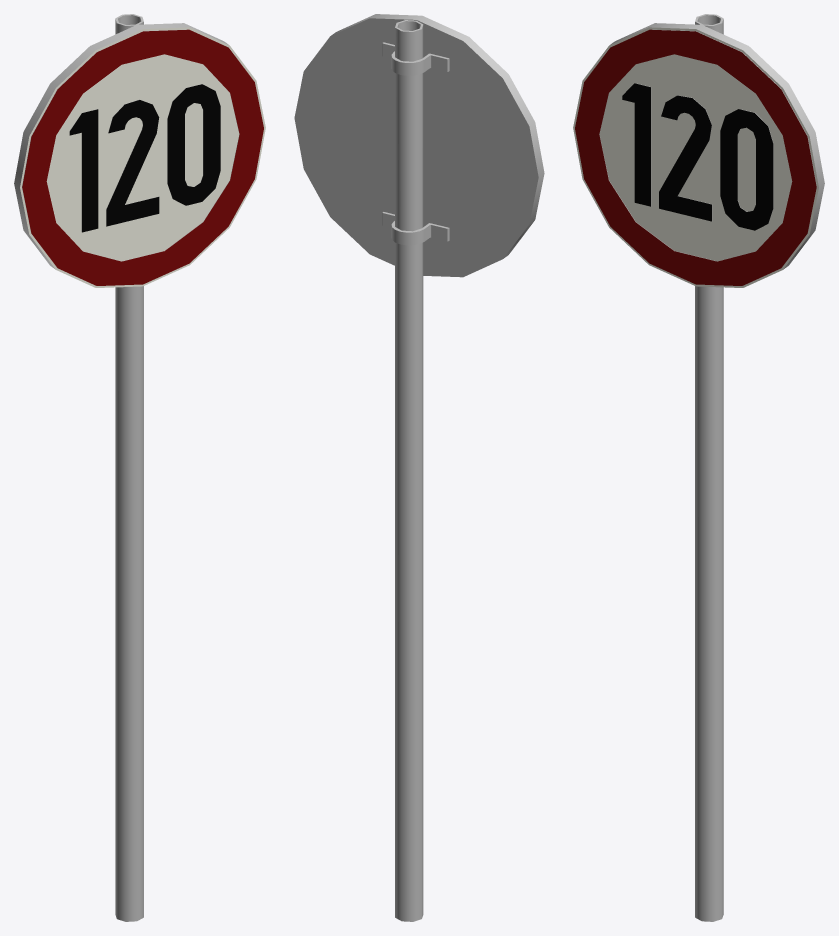
3 views of the same model, side by side, from view 1: azimuth 30°, elevation 25°; view 2: azimuth 150°, elevation 25°; view 3: azimuth 330°, elevation 25° (orthographic).
Parts seen in each view (by area): view 1: 120; view 2: 120; view 3: 120.
Boxes of the visible parts, x1,y1,x2,y2 form: 120: [14, 14, 265, 921]; 120: [294, 14, 544, 921]; 120: [573, 14, 824, 921].
Bounding box in the file's own units: 603 × 2102 × 95.5.
